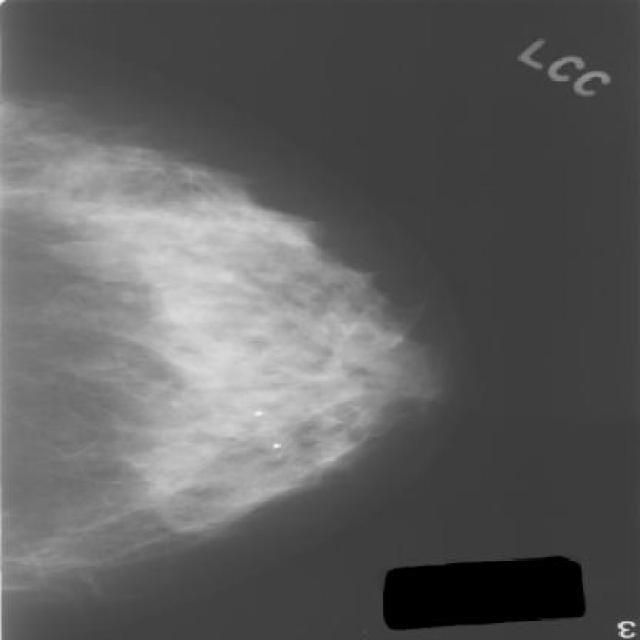tumor: (24, 156, 443, 497)
